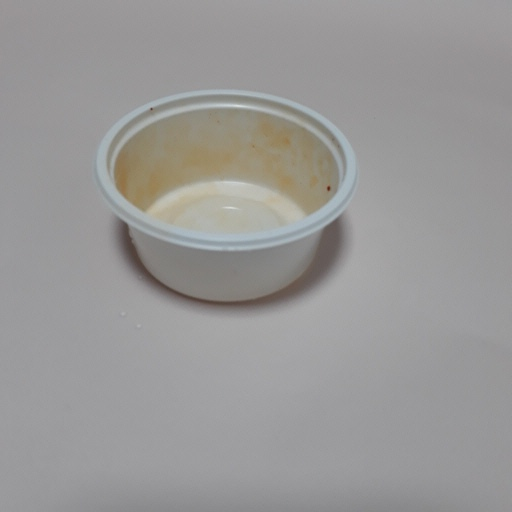Plastic_5: (90, 84, 361, 310)
